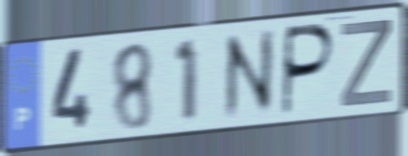1: (172, 37, 203, 126)
4: (49, 44, 98, 140)
8: (110, 40, 156, 133)
N: (222, 25, 277, 124)
P: (279, 21, 338, 120)
Z: (338, 17, 395, 111)
